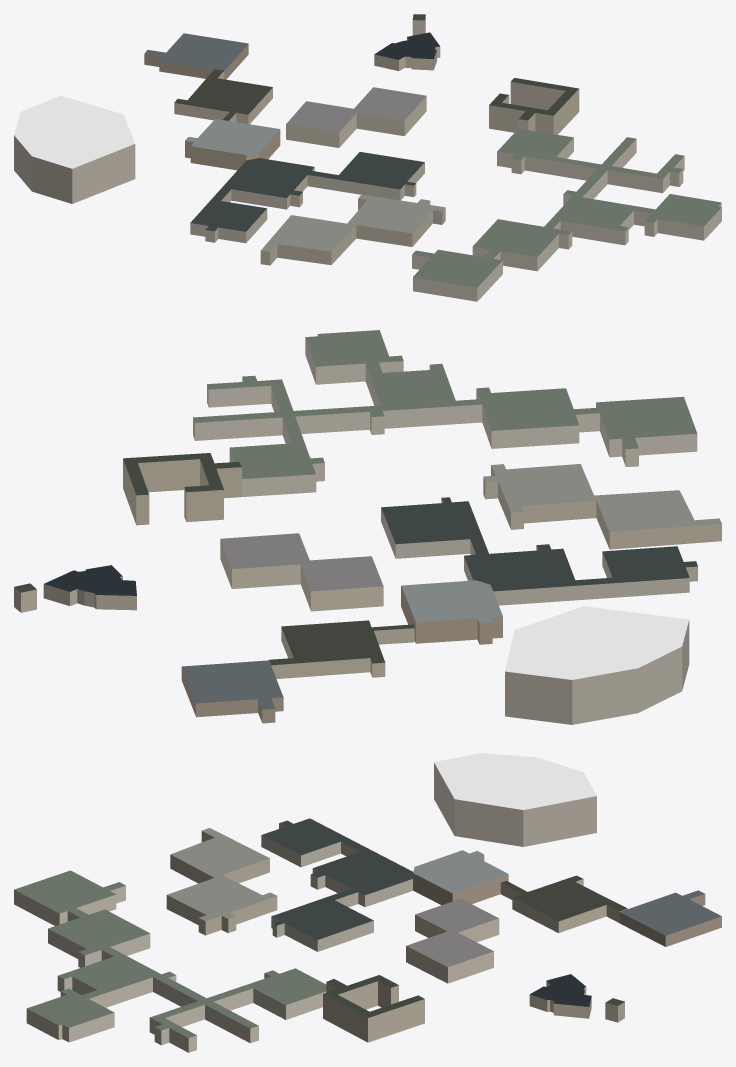
3 renders of one model, top to bottom at view 1: azimuth 30°, elevation 25°; view 2: azimuth 150°, elevation 25°; view 3: azimuth 270°, elevation 25°, orthographic. The views are drawn at different scales.
Parts seen in each view (by area): view 1: tuile; view 2: tuile; view 3: tuile.
Boxes of the visible parts, x1,y1,x2,y2 form: tuile: (14, 14, 721, 301); tuile: (14, 330, 721, 724); tuile: (14, 753, 721, 1052).
Size of the model in its own units: 168 by 11.5 by 191.
